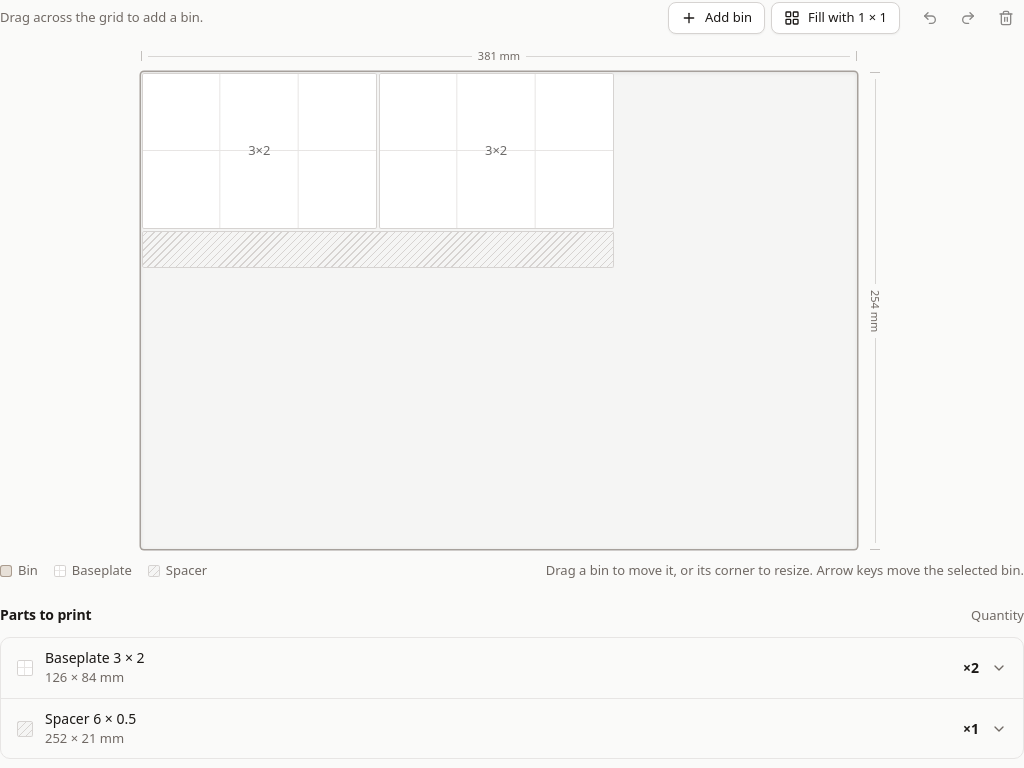
it: GridfinityVisualPreview parts list › shows millimetres first when useMm is true, and first position for a group
The width and height of the screenshot is (1024, 768).
Click the button named "Baseplate 3 × 2 — 2 in this drawer". click: x=77, y=658
box: [1,638,1023,698]
(page scrolled)
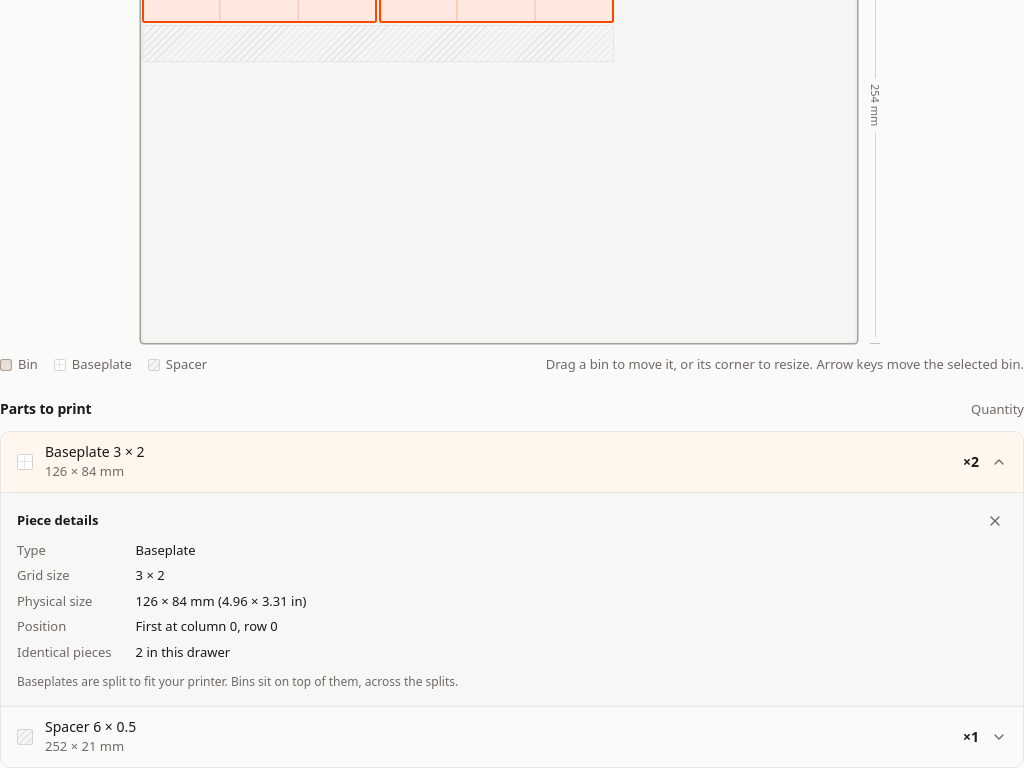
Expected: the text "126 × 84 mm (4.96 × 3.31 in)" is shown, [136,592,306,610]
Expected: the text "2 in this drawer" is shown, [136,643,230,661]
Expected: the text "First at column 0, row 0" is shown, [136,618,278,636]
